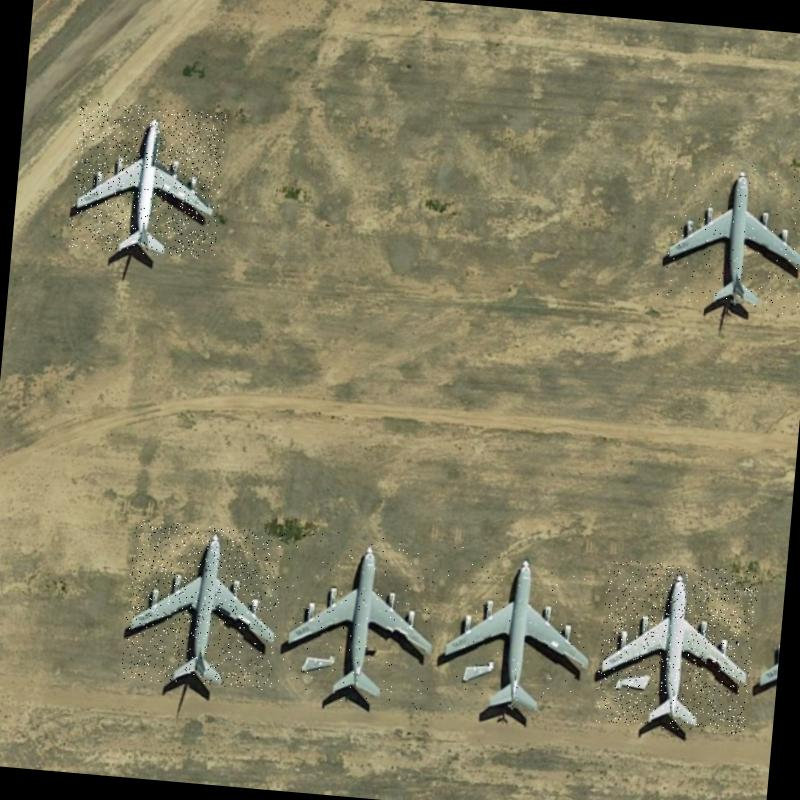A11: (594, 558, 760, 736), (67, 100, 227, 260)
A14: (276, 528, 440, 710), (436, 545, 604, 722), (121, 519, 285, 692), (656, 158, 800, 318)
